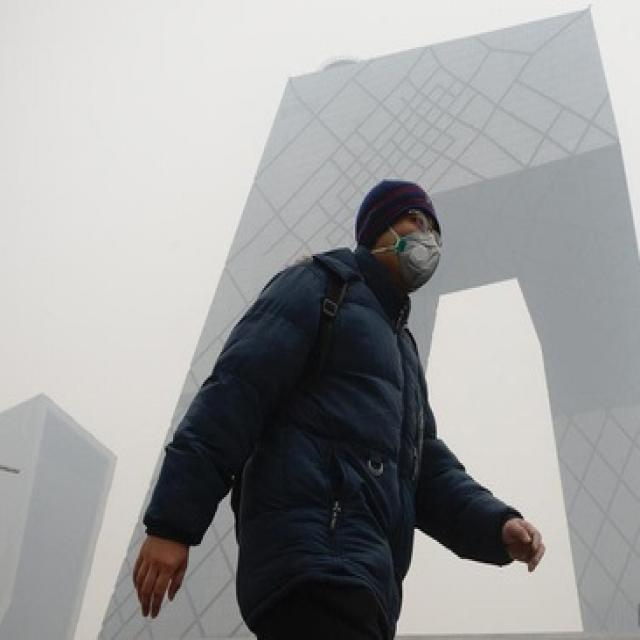mask: (377, 211, 434, 284)
